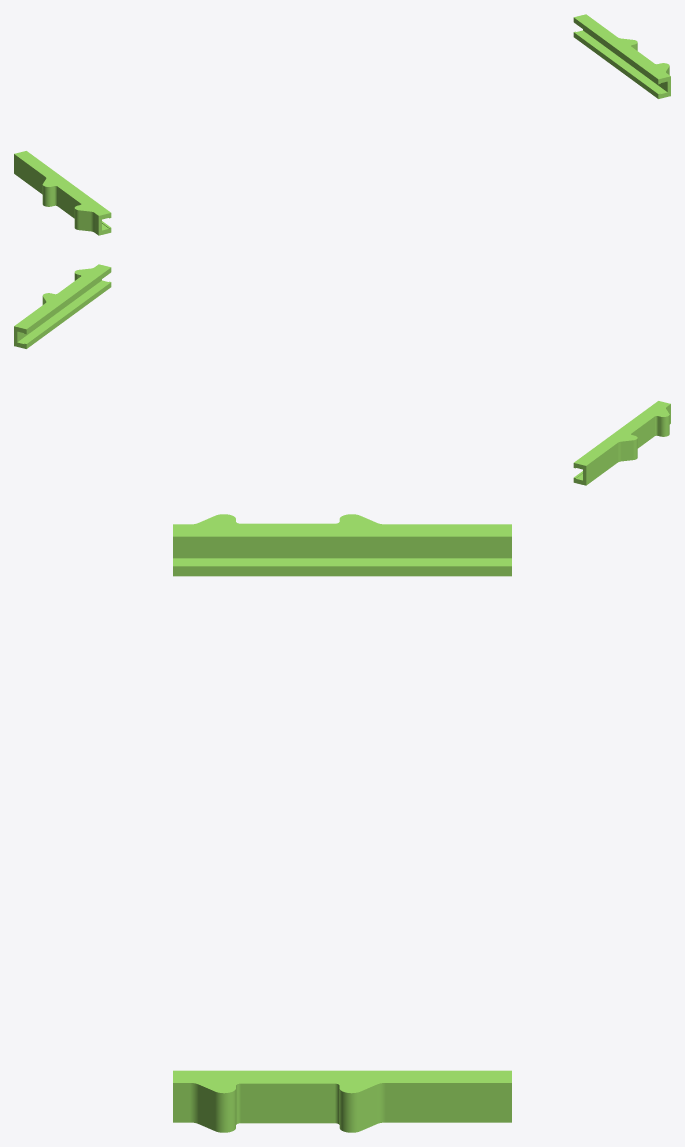
3 views of the same model, one above another, from view 1: azimuth 30°, elevation 25°; view 2: azimuth 150°, elevation 25°; view 3: azimuth 270°, elevation 25° (orthographic). The views are drawn at different scales.
Visible parts, largest first — view 1: id5, id2; view 2: id2, id5; view 3: id2, id5.
Boxes of the visible parts, x1,y1,x2,y2 form: id5: [14, 151, 111, 235]; id2: [573, 14, 670, 98]; id2: [14, 264, 111, 348]; id5: [573, 401, 670, 485]; id2: [173, 1070, 511, 1132]; id5: [173, 514, 511, 576].
Bounding box in the file's own units: 0.8952 × 0.0286 × 0.2216.
